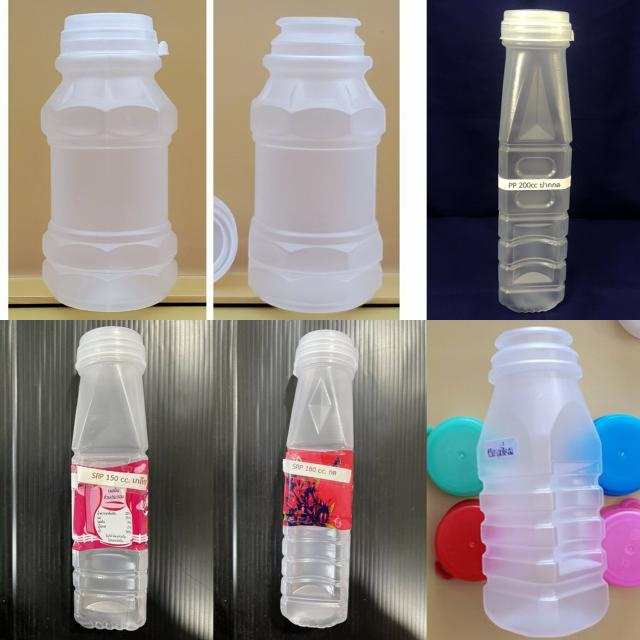Single-Use-Plastic: (41, 13, 178, 311), (478, 327, 609, 637), (249, 18, 385, 312), (71, 327, 149, 630), (280, 329, 358, 627), (499, 10, 574, 313)
